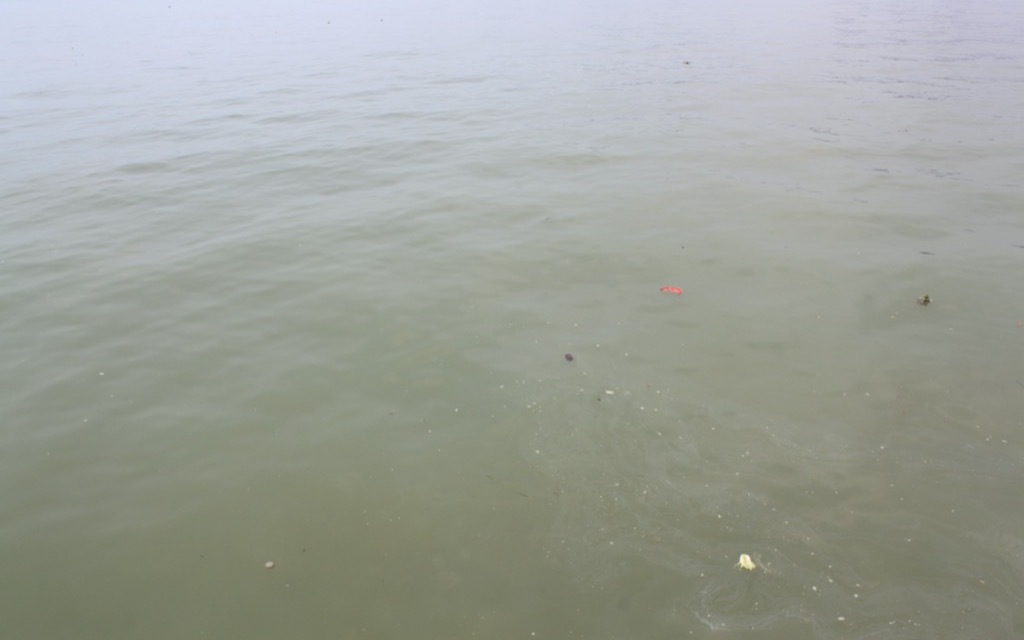organic: (911, 288, 940, 312), (556, 346, 581, 365), (674, 55, 697, 69), (591, 395, 605, 406)
plastic: (726, 541, 767, 583), (648, 272, 691, 309), (257, 548, 282, 578)
